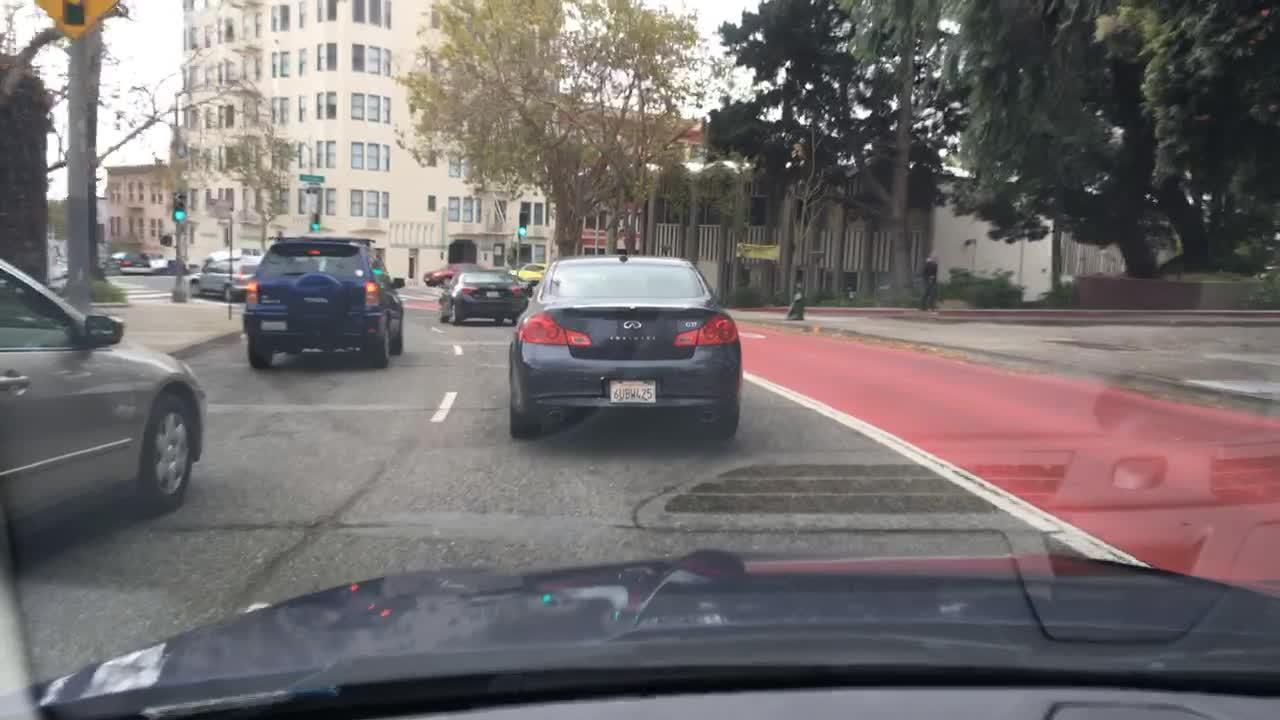Infiniti: (615, 315, 652, 336)
